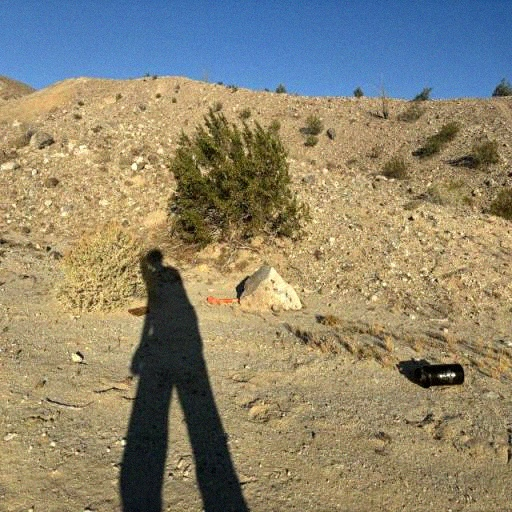bottle: (412, 362, 466, 392)
mallet: (204, 288, 242, 314)
